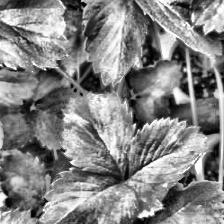Powdery Mildew Leaf: (58, 89, 137, 178), (129, 0, 224, 68)
